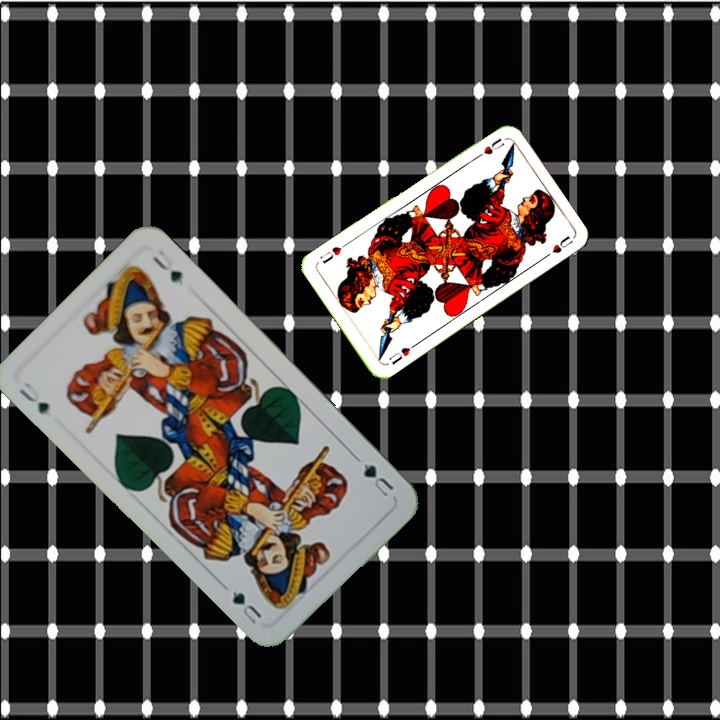GU: (359, 459, 397, 499), (15, 378, 52, 417)
HU: (471, 134, 507, 162), (385, 343, 413, 368)
